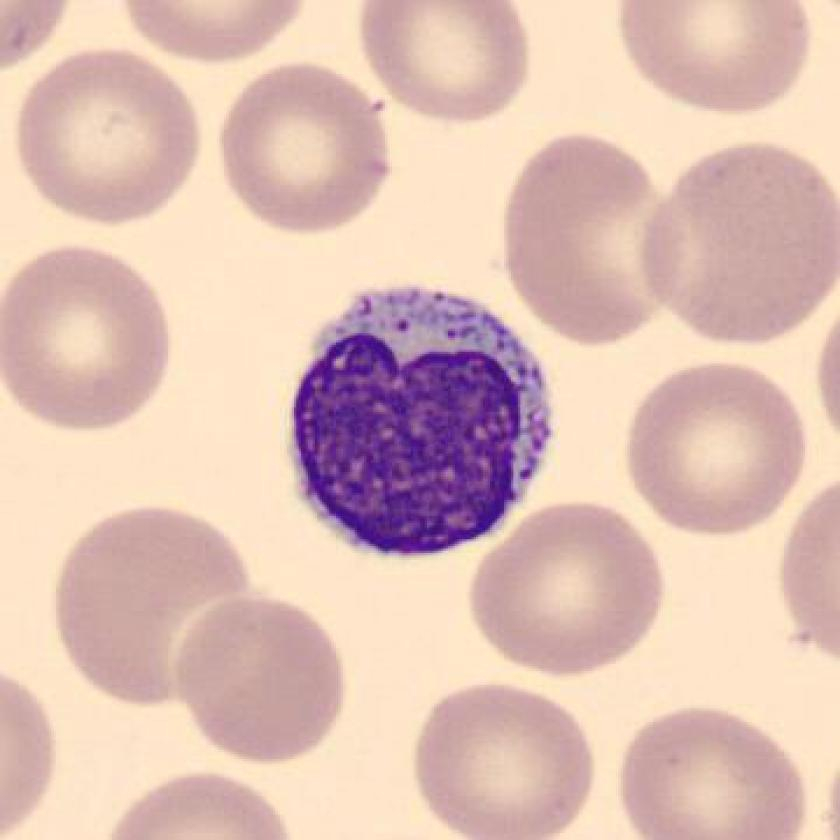lymphocyte: (276, 272, 573, 577)
